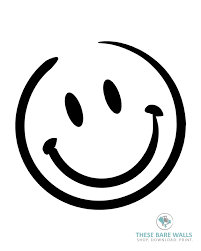feliz: (11, 42, 190, 212), (45, 79, 166, 189)
